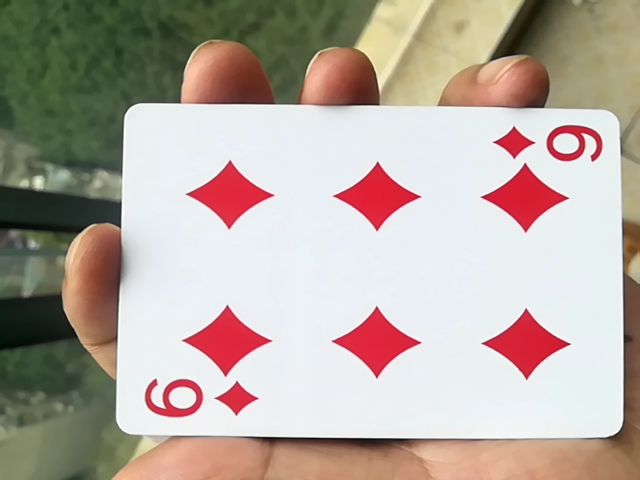fk 6: (96, 114, 621, 456)
